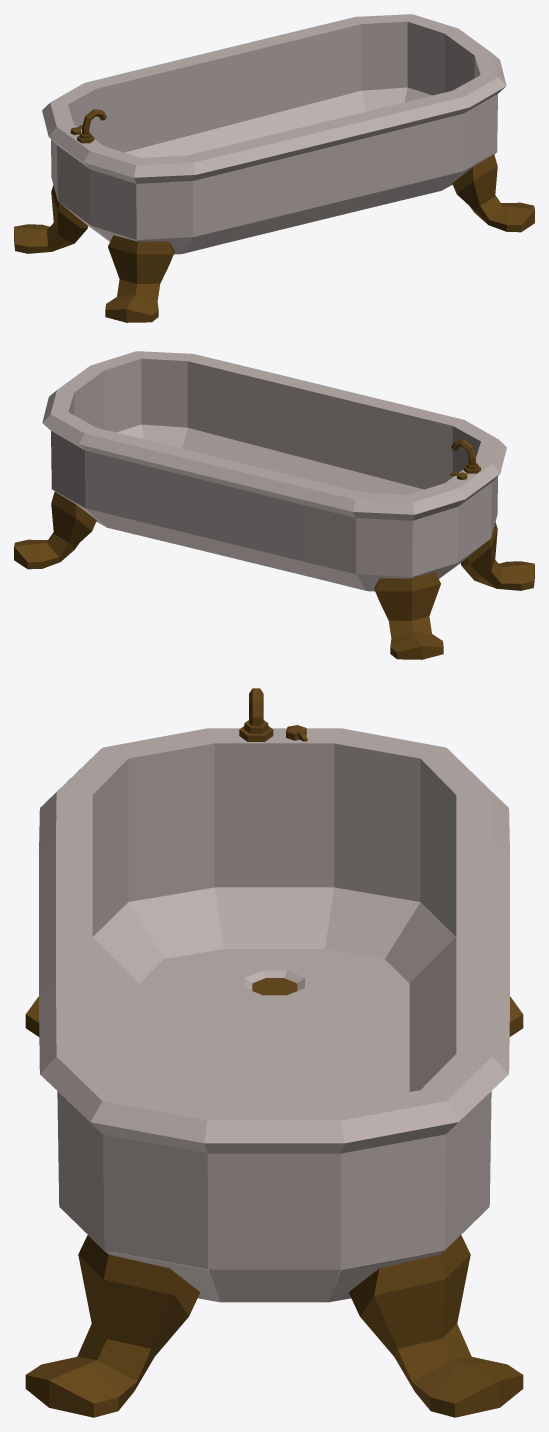
Rendered from BathTub2.glb.
The picture shows the model from 3 angles, top to bottom: view 1: azimuth 30°, elevation 25°; view 2: azimuth 150°, elevation 25°; view 3: azimuth 270°, elevation 25°; orthographic projection. The views are drawn at different scales.
Parts seen in each view (by area): view 1: BathTub2; view 2: BathTub2; view 3: BathTub2.
Part boxes in pixels (left/top/right/bottom): BathTub2: left=14, top=14, right=534, bottom=322; BathTub2: left=14, top=351, right=534, bottom=659; BathTub2: left=25, top=688, right=523, bottom=1417.
Bounding box in the file's own units: 1.99 × 0.7568 × 1.
